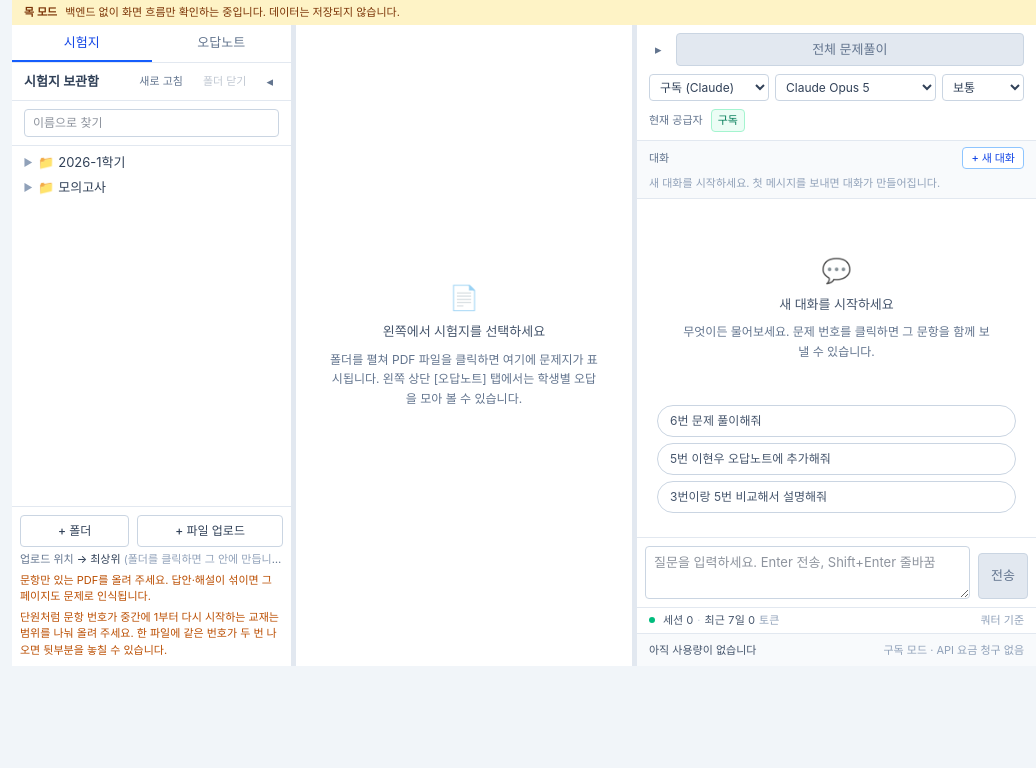
Test: 좌측 2섹션 (시험지 / 오답노트) › 오답노트 탭으로 전환하면 노트 트리가 뜨고 [+ 노트] 가 보인다
Expected: the text "2026-1학기" is shown, [58,154,126,170]
Click the tab "오답노트" at (221, 43), box [152,24,291,62]
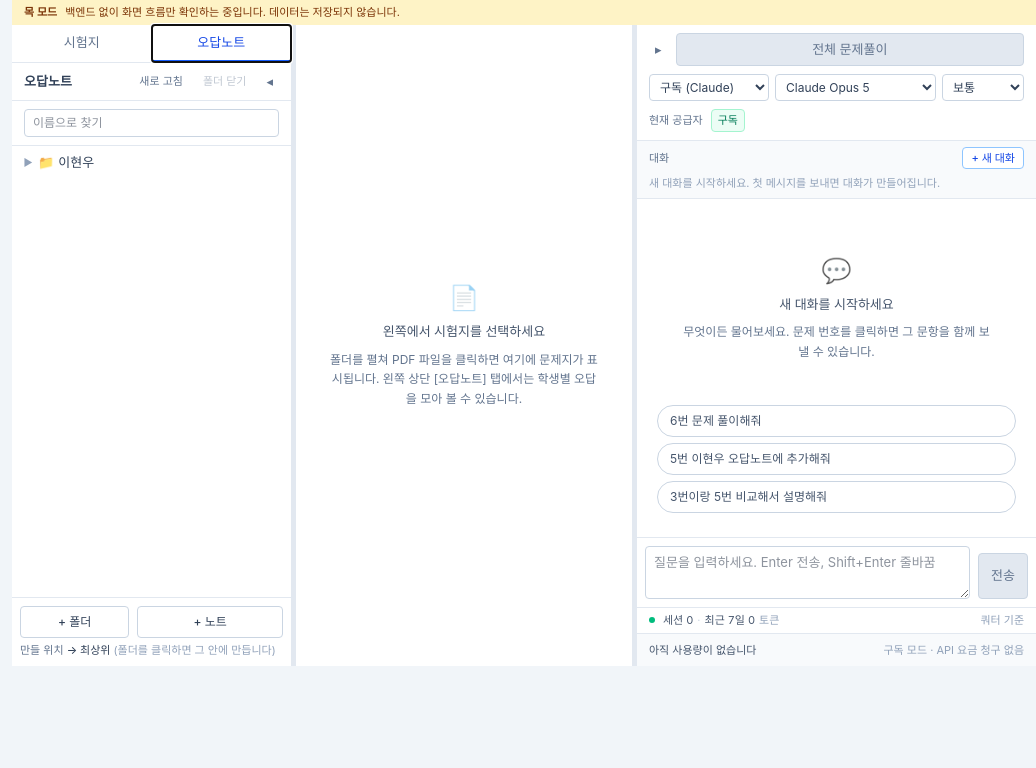
Result: the list item "▶ 📁 이현우" is shown at [23,154,94,170]
Result: the button "+ 노트" is shown at [137,606,283,638]
